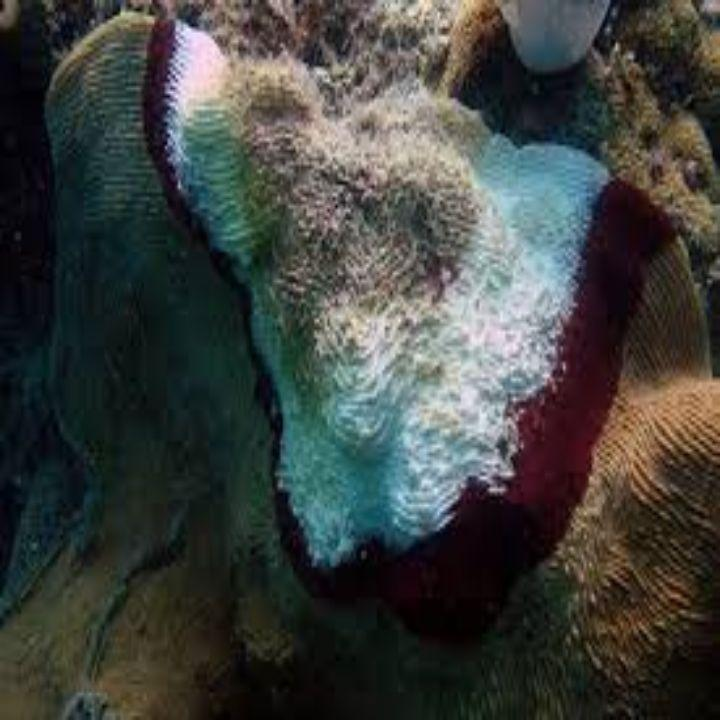Band disease: (61, 26, 620, 610)
